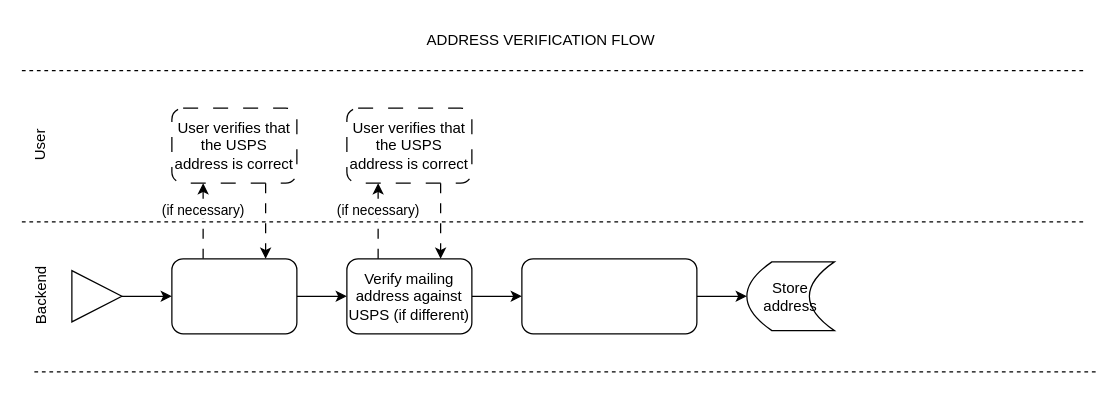
This 1120x395 diagram has some shape labels left out. Here are the shapes that lost their labels. From the top down, the centre of each, then its label:
At (x=234, y=296): "Verify eligibility address against USPS".
At (x=609, y=296): "Determine if eligibility address is in the Get FoCo service area (GMA)".
